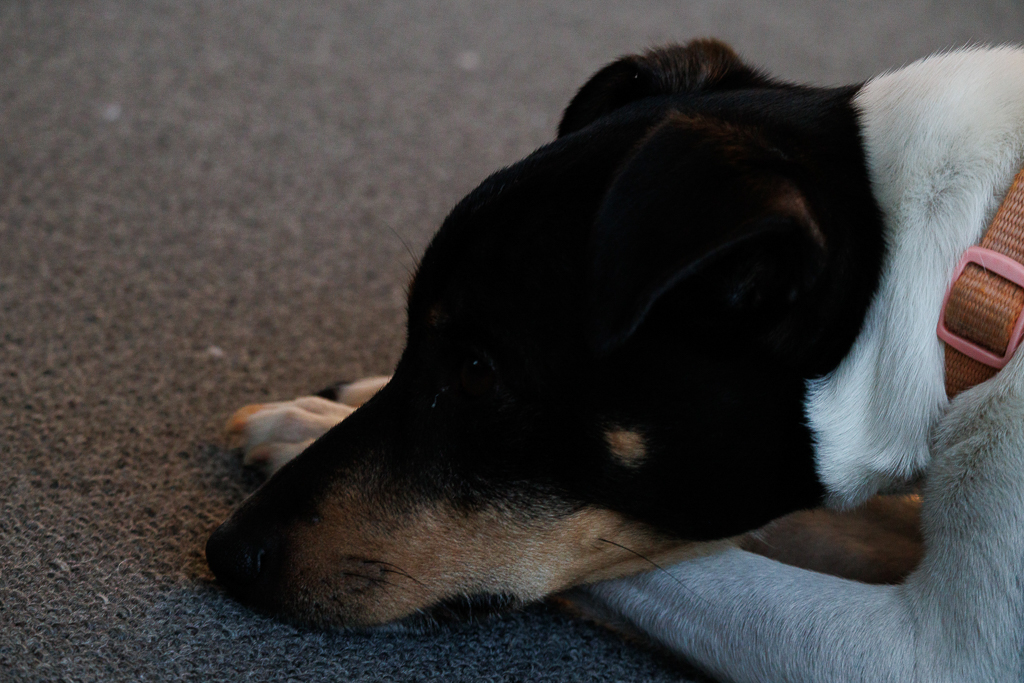Dog: (181, 26, 1024, 683)
